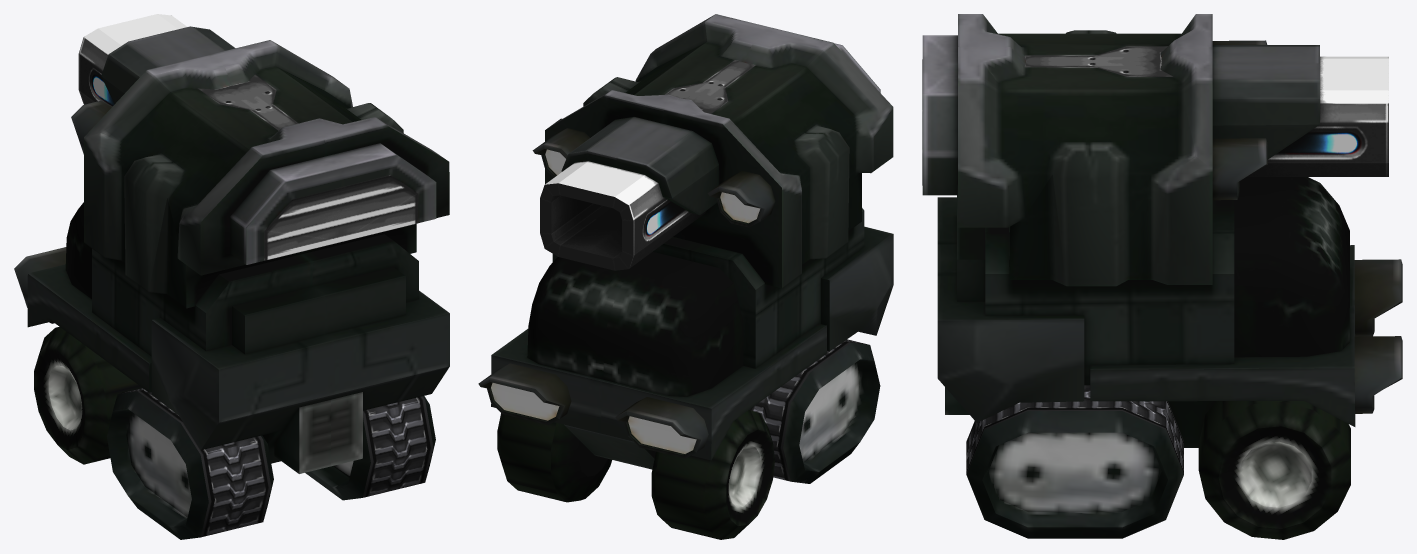
The model's file is medium.FBX.
3 renders of one model, left to right at view 1: azimuth 30°, elevation 25°; view 2: azimuth 150°, elevation 25°; view 3: azimuth 270°, elevation 25°, orthographic. The views are drawn at different scales.
Visible parts, largest first — view 1: mediumvehicle, mediumvehicle_gun, tracks_mediumvehicle, colour_mediumvehicle_gun2, mediumvehicle_wheels, colour_mediumvehicle_gun1; view 2: mediumvehicle, mediumvehicle_gun, mediumvehicle_wheels, colour_mediumvehicle_gun1, tracks_mediumvehicle, colour_mediumvehicle_gun2; view 3: mediumvehicle, mediumvehicle_gun, mediumvehicle_wheels, colour_mediumvehicle_gun1, tracks_mediumvehicle, colour_mediumvehicle_gun2.
Boxes of the visible parts, bbox=[...] form: mediumvehicle: bbox=[14, 202, 449, 539]; mediumvehicle_gun: bbox=[71, 26, 449, 308]; tracks_mediumvehicle: bbox=[118, 388, 433, 537]; colour_mediumvehicle_gun2: bbox=[198, 74, 418, 260]; mediumvehicle_wheels: bbox=[34, 327, 141, 464]; colour_mediumvehicle_gun1: bbox=[78, 14, 186, 106]; mediumvehicle: bbox=[478, 208, 893, 483]; mediumvehicle_gun: bbox=[532, 14, 893, 288]; mediumvehicle_wheels: bbox=[497, 410, 774, 539]; colour_mediumvehicle_gun1: bbox=[540, 161, 705, 270]; tracks_mediumvehicle: bbox=[749, 339, 869, 481]; colour_mediumvehicle_gun2: bbox=[664, 60, 755, 113]; mediumvehicle: bbox=[937, 177, 1402, 538]; mediumvehicle_gun: bbox=[922, 14, 1319, 286]; mediumvehicle_wheels: bbox=[1198, 401, 1350, 539]; colour_mediumvehicle_gun1: bbox=[1246, 56, 1388, 176]; tracks_mediumvehicle: bbox=[966, 385, 1183, 474]; colour_mediumvehicle_gun2: bbox=[922, 46, 1173, 185].
Bounding box in the file's own units: 87.65 × 127 × 127.
